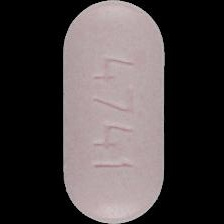0615-6511: (0, 0, 224, 224)
